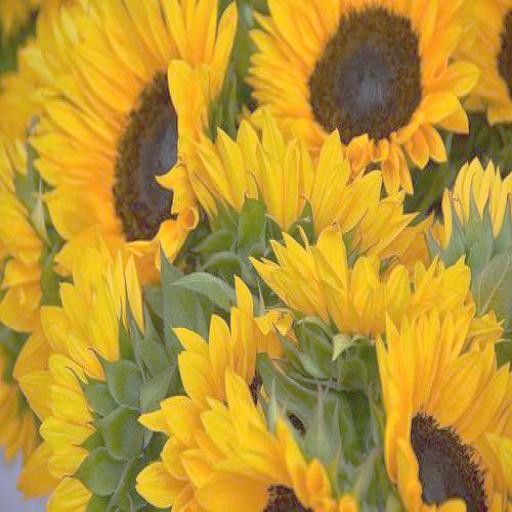sunflower: (154, 301, 379, 512), (239, 1, 512, 156), (372, 311, 512, 512)
